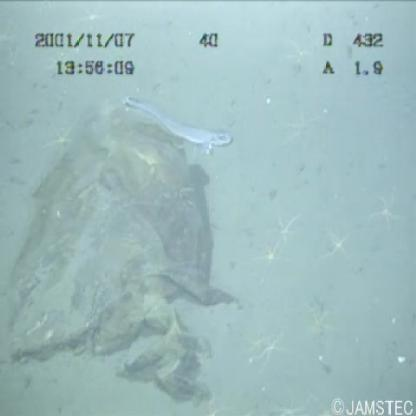Bio: (117, 86, 247, 152)
Rác: (1, 95, 260, 415)
